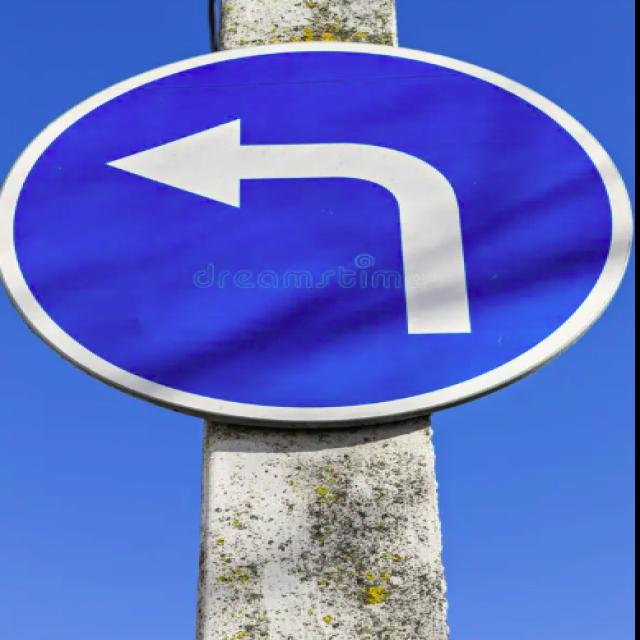LEFT: (2, 41, 628, 421)
